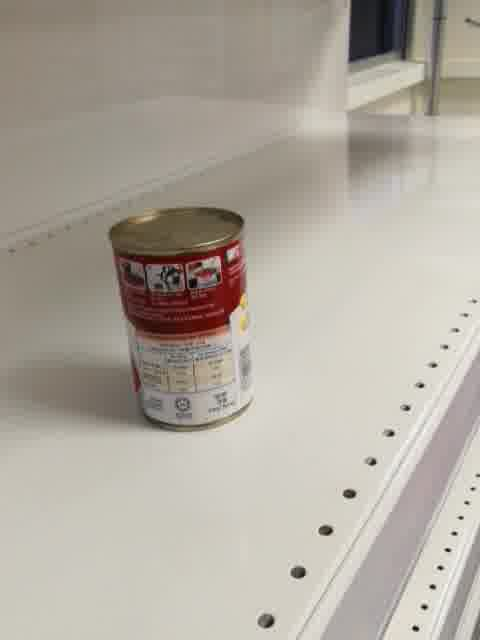tomatosoup: (107, 205, 256, 436)
